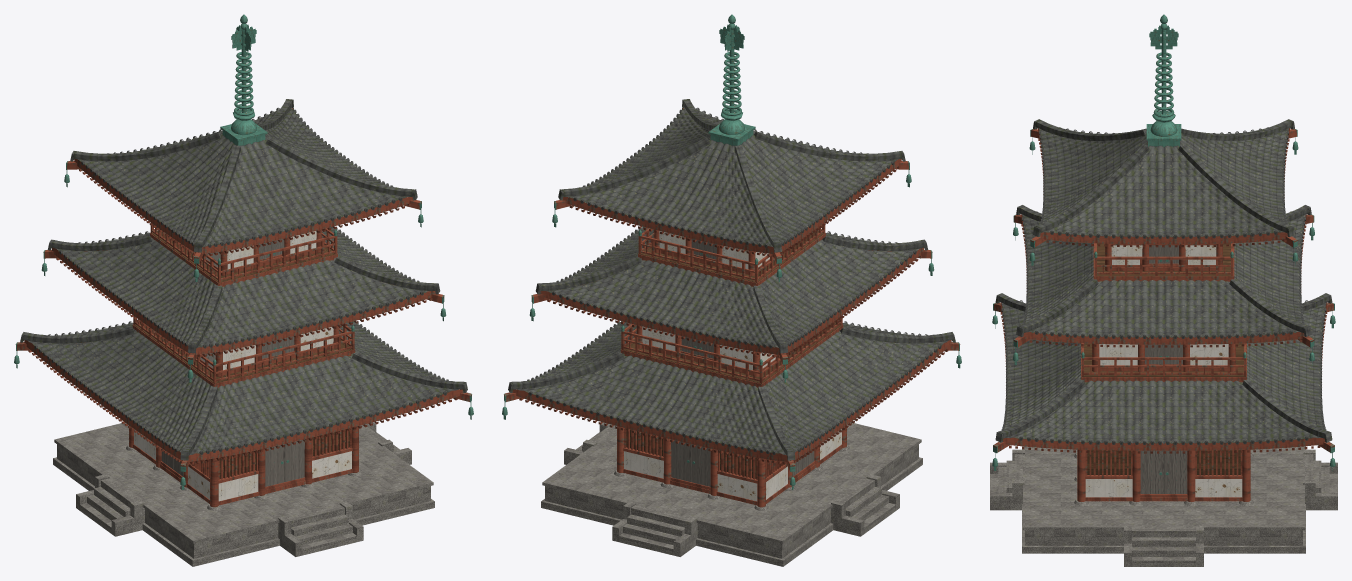
The model's file is Pagoda.glb.
3 renders of one model, left to right at view 1: azimuth 30°, elevation 25°; view 2: azimuth 150°, elevation 25°; view 3: azimuth 270°, elevation 25°, orthographic.
Parts seen in each view (by area): view 1: Roof 1, Roof 3, Platform, Roof 2, Storey 1, Storey 2, Storey 3, Finial; view 2: Roof 1, Roof 3, Platform, Roof 2, Storey 1, Storey 2, Storey 3, Finial; view 3: Roof 1, Roof 3, Platform, Roof 2, Storey 1, Storey 2, Storey 3, Finial.
Boxes of the visible parts, x1,y1,x2,y2 form: Roof 1: (14,321,473,489); Roof 3: (64,99,423,281); Platform: (53,422,434,566); Roof 2: (41,226,446,382); Storey 1: (129,425,358,507); Storey 2: (132,316,355,387); Storey 3: (150,222,337,286); Finial: (220,14,267,145); Roof 1: (502,320,961,490); Roof 3: (552,99,911,281); Platform: (541,422,922,566); Roof 2: (529,226,934,382); Storey 1: (617,426,846,507); Storey 2: (620,317,843,387); Storey 3: (638,223,825,286); Finial: (708,14,755,145); Roof 1: (992,293,1335,471); Roof 3: (1029,119,1298,265); Platform: (990,446,1337,566); Roof 2: (1013,205,1314,365); Storey 1: (1077,449,1250,501); Storey 2: (1081,343,1246,382); Storey 3: (1093,243,1234,281); Finial: (1146,14,1181,146).
Size of the model in its own units: 13.52 by 20.57 by 13.52.
11 materials, 11 textured.
